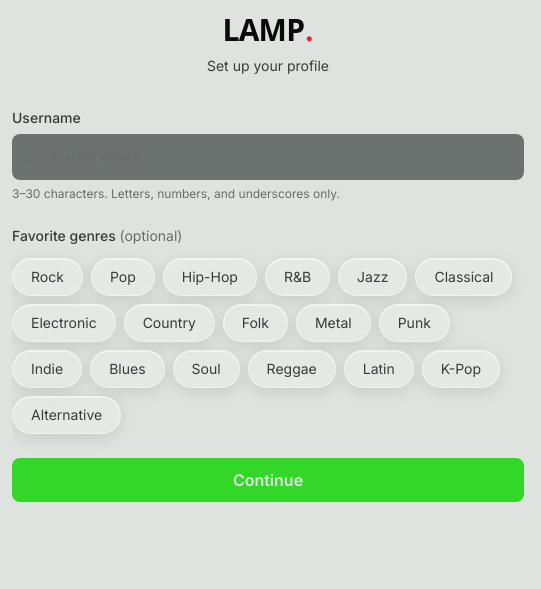
OnboardingForm › shows error for reserved username
This screenshot has width=541, height=589.
In the field labelled "Username": [268, 157] box [12,134,524,180], type "admin"
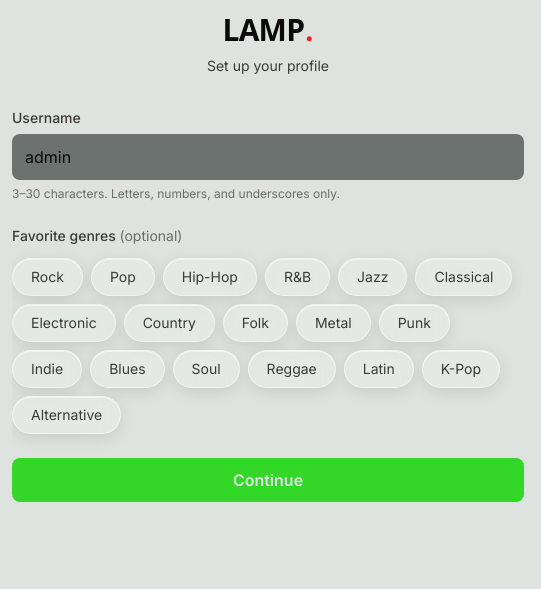
Click the button "Continue": [268, 480] box [12,458,524,502]
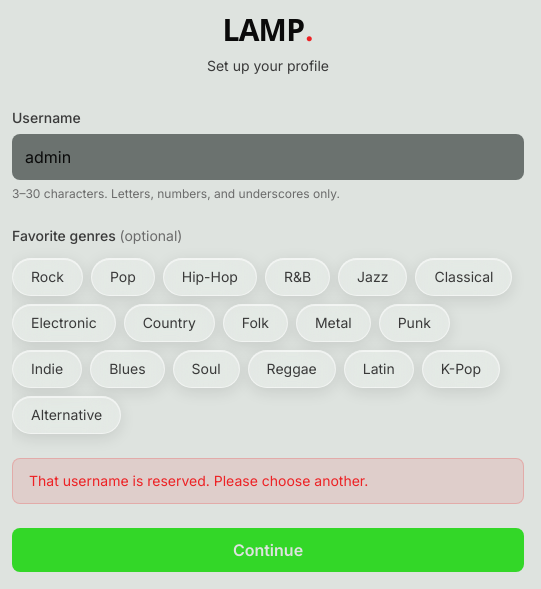
Result: the text "That username is reserved. Please choose another." is shown at [29,472,368,489]
